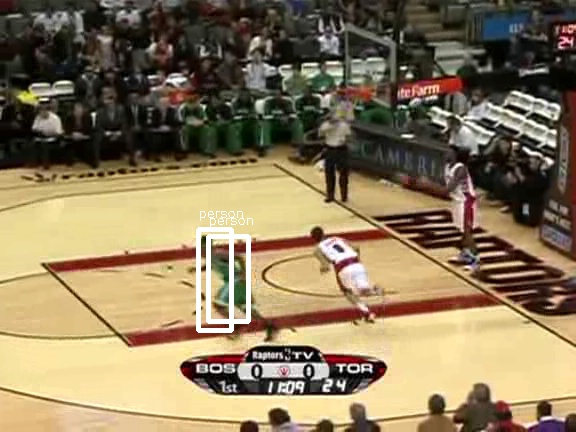person: (216, 241, 250, 322), (215, 241, 249, 322), (217, 241, 251, 322), (216, 240, 250, 321), (216, 242, 250, 323)
target_negative: (308, 76, 537, 410), (60, 407, 333, 414), (119, 231, 134, 352), (152, 85, 153, 387), (572, 309, 575, 400), (523, 405, 530, 428)
